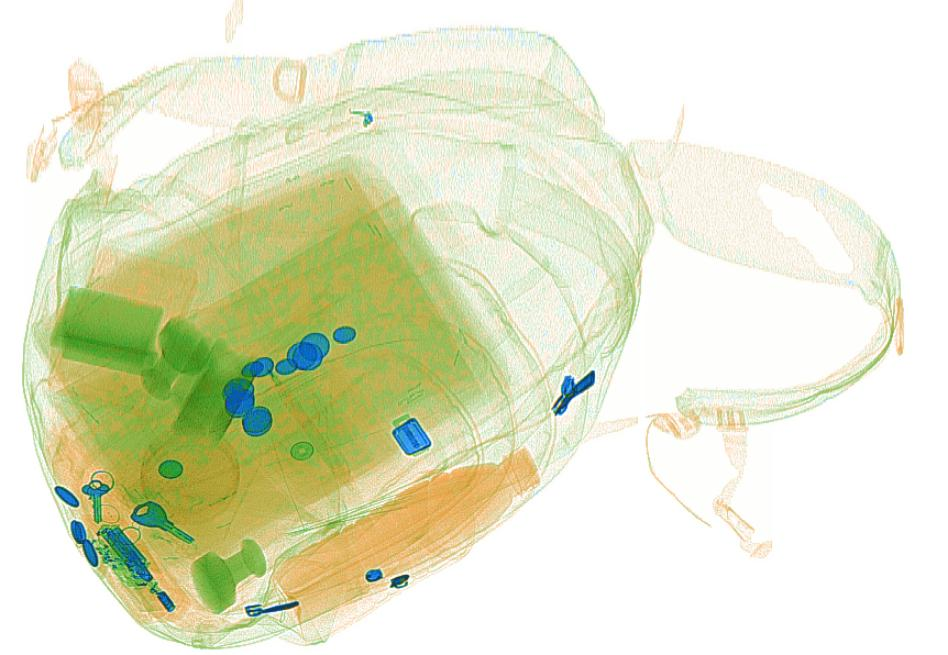battery: (97, 524, 149, 570)
seal: (188, 536, 268, 617), (142, 315, 213, 401)
